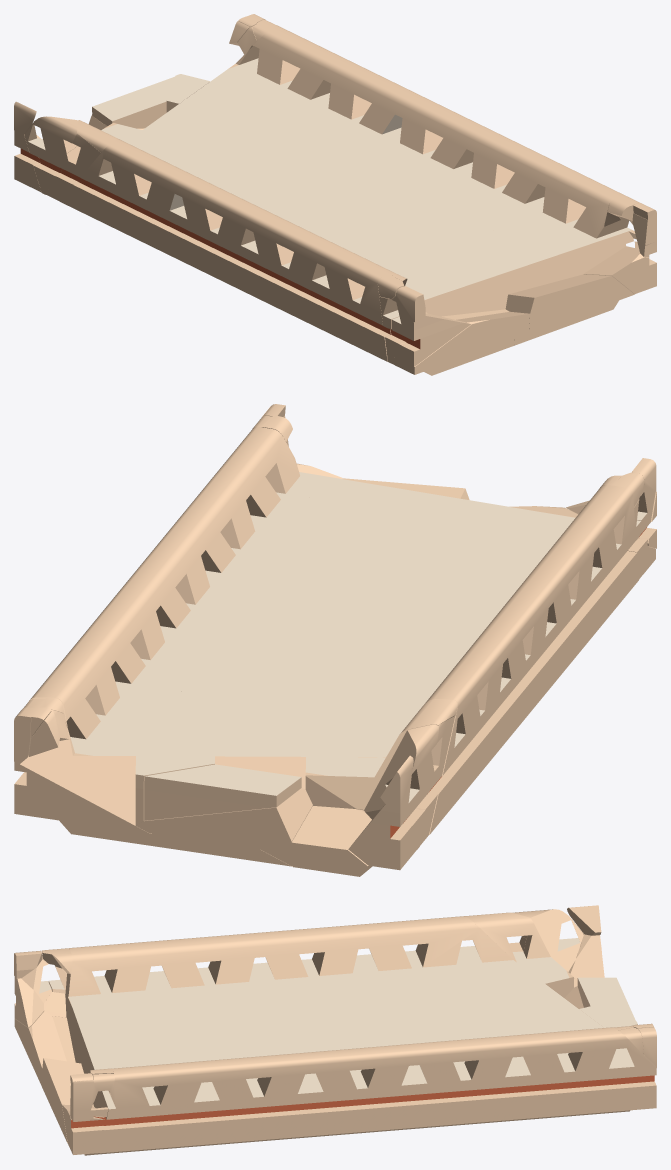
Rendered from Bridge_partC.fbx.
The picture shows the model from 3 angles, top to bottom: view 1: azimuth 30°, elevation 25°; view 2: azimuth 150°, elevation 25°; view 3: azimuth 270°, elevation 25°; orthographic projection. The views are drawn at different scales.
Parts seen in each view (by area): view 1: Bridge_partC; view 2: Bridge_partC; view 3: Bridge_partC.
Part boxes in pixels (<box>): Bridge_partC: <box>14,14,656,375</box>; Bridge_partC: <box>14,404,656,876</box>; Bridge_partC: <box>14,905,656,1155</box>.
Bounding box in the file's own units: 1780 × 441 × 2743.
